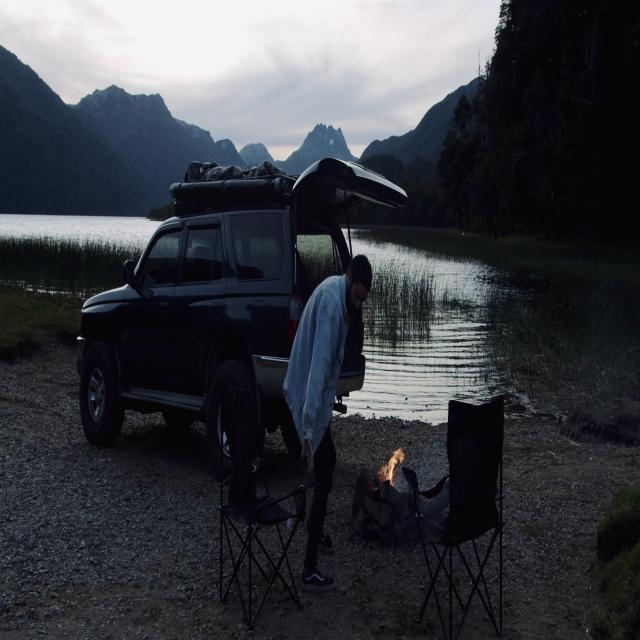Fire: (382, 441, 408, 494)
